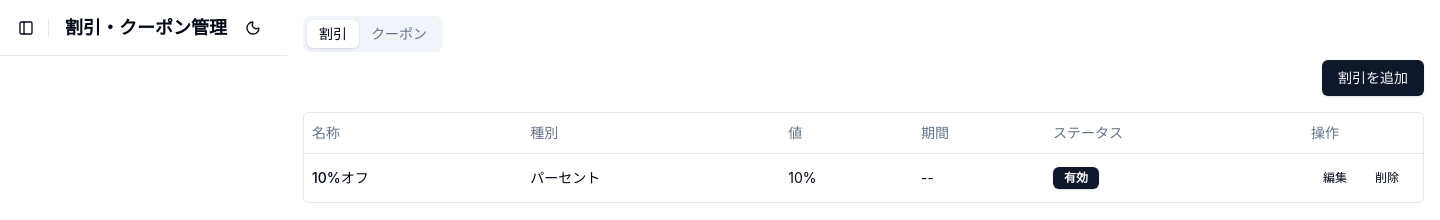
Test: DiscountsPage › タブを切り替えてクーポン一覧を表示する
// クーポンタブをクリック
Step 1. Click the tab "クーポン" → [399, 34], box x1=359 y1=20 x2=439 y2=48
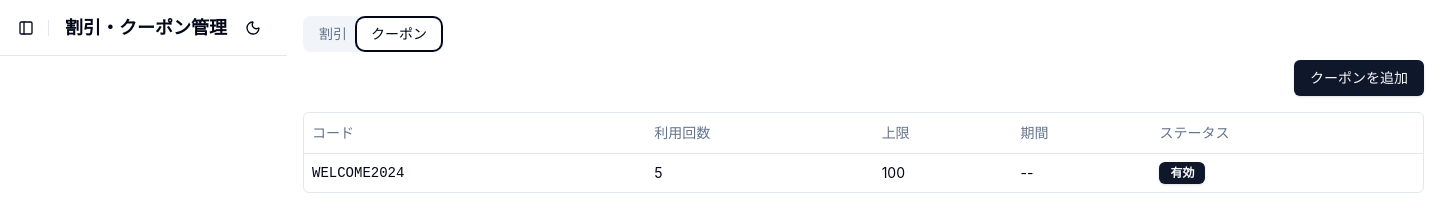
Expected: the text "WELCOME2024" is shown, x1=304 y1=153 x2=646 y2=192
